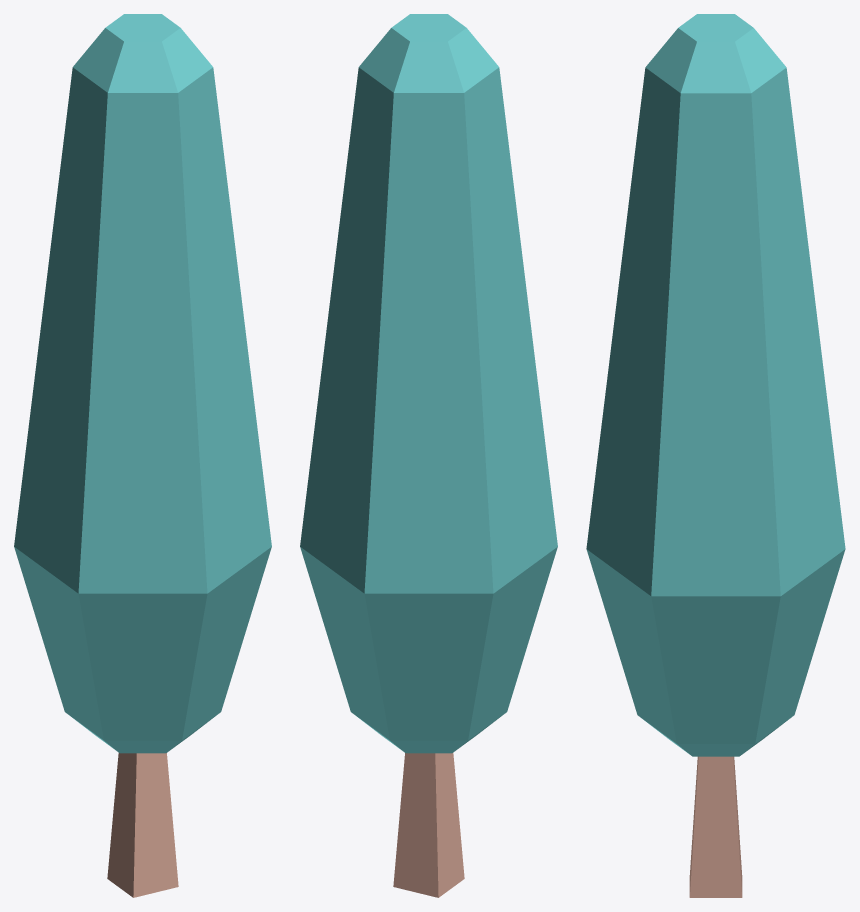
File: tree-tall-dark.glb
3 renders of one model, left to right at view 1: azimuth 30°, elevation 25°; view 2: azimuth 150°, elevation 25°; view 3: azimuth 270°, elevation 25°, orthographic.
Visible parts, largest first — view 1: tree_tall_dark; view 2: tree_tall_dark; view 3: tree_tall_dark.
Part boxes in pixels (left/top/right/bottom): tree_tall_dark: left=14, top=14, right=271, bottom=897; tree_tall_dark: left=300, top=14, right=557, bottom=897; tree_tall_dark: left=586, top=14, right=845, bottom=897.
Bounding box in the file's own units: 0.3996 × 1.69 × 0.4614.
